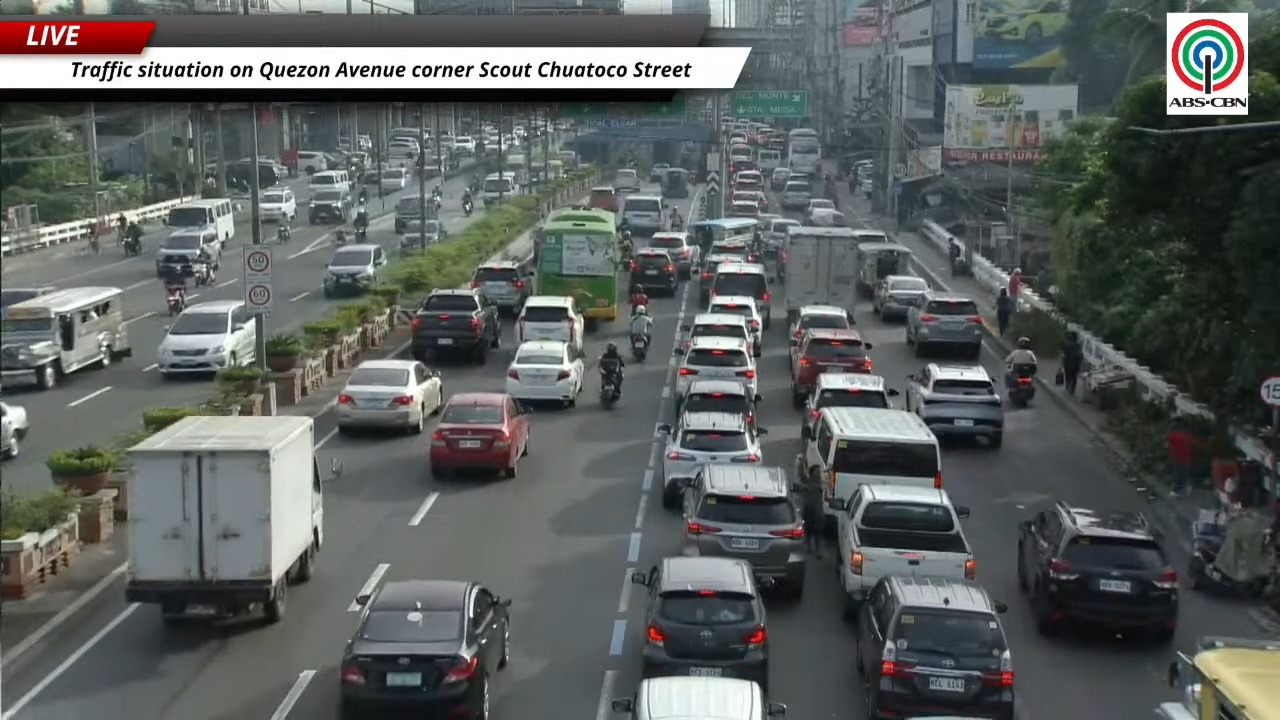bus: (1156, 637, 1279, 719), (537, 208, 619, 327), (786, 128, 821, 176)
car: (339, 579, 510, 719), (1017, 501, 1178, 642), (856, 576, 1014, 719), (631, 556, 768, 694), (682, 464, 806, 598), (659, 411, 765, 501), (429, 393, 528, 478), (906, 363, 1003, 448), (335, 359, 443, 433), (157, 300, 258, 377), (611, 676, 786, 719), (411, 289, 500, 363), (790, 328, 872, 408), (803, 373, 898, 434), (905, 290, 983, 358), (505, 340, 583, 406), (675, 337, 758, 396), (711, 261, 770, 330), (516, 296, 584, 352), (678, 379, 760, 425), (680, 312, 760, 357), (322, 243, 387, 297), (706, 295, 762, 356), (471, 260, 533, 314), (873, 275, 929, 319), (647, 232, 698, 278), (629, 248, 678, 295), (790, 304, 854, 339), (699, 254, 744, 303), (621, 194, 666, 235), (0, 402, 29, 458), (308, 188, 351, 224), (399, 218, 448, 248), (761, 217, 800, 253), (0, 286, 55, 311), (259, 187, 296, 224), (394, 195, 428, 233), (709, 238, 760, 263), (782, 174, 811, 209), (805, 198, 837, 224), (588, 186, 619, 212), (803, 208, 846, 226), (297, 150, 329, 174), (729, 189, 763, 211), (387, 137, 420, 159), (379, 168, 407, 192), (612, 168, 639, 192), (733, 169, 763, 190), (734, 170, 763, 191), (727, 202, 760, 218), (751, 189, 769, 216), (770, 167, 790, 191), (452, 136, 475, 155), (649, 163, 670, 182)
motorcycle: (1187, 508, 1276, 597), (1006, 365, 1035, 408), (599, 369, 619, 409), (184, 261, 213, 286), (166, 289, 185, 316), (631, 333, 648, 361), (122, 238, 141, 256), (277, 224, 290, 243), (89, 236, 101, 255), (354, 227, 367, 243), (333, 230, 346, 246), (462, 199, 473, 216), (432, 195, 441, 212), (358, 189, 368, 203)
truck: (125, 417, 324, 622), (827, 484, 975, 619), (781, 226, 857, 322), (855, 235, 911, 298), (481, 171, 520, 207)
